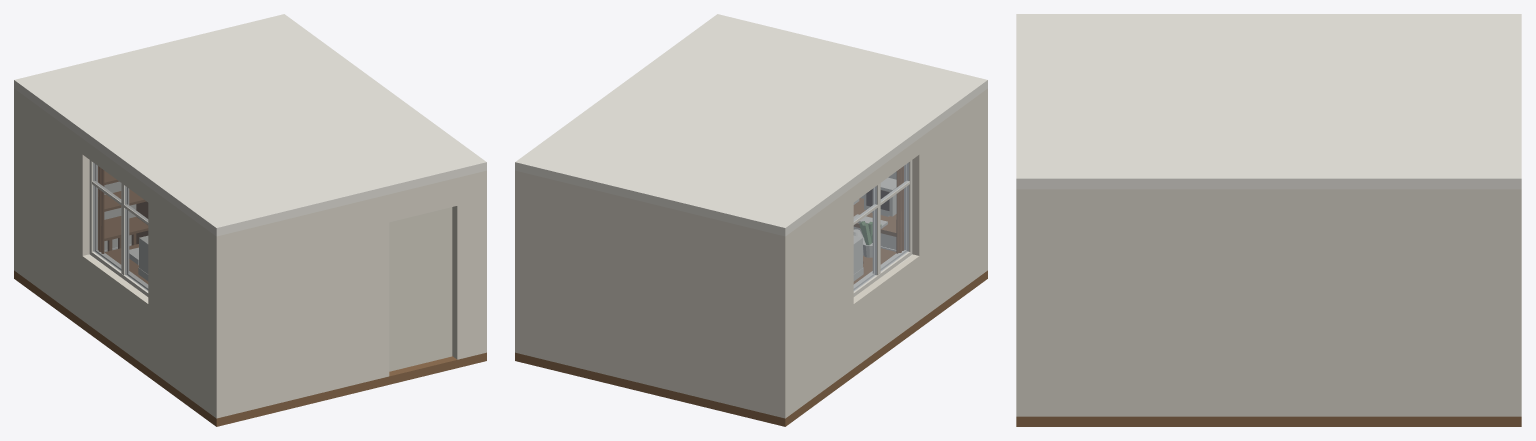
The model's file is room.glb.
3 renders of one model, left to right at view 1: azimuth 30°, elevation 25°; view 2: azimuth 150°, elevation 25°; view 3: azimuth 270°, elevation 25°, orthographic. The views are drawn at different scales.
Parts seen in each view (by area): view 1: Ceiling, WallFront_0, WallLeft_3, WallLeft_0, DoorLeaf, WallFront_2, WallLeft_1, Floor, Glass1, WallBack_0, Glass0, WallFront_1 (+5 smaller); view 2: Ceiling, WallBack_0, WallLeft_0, WallLeft_3, WallLeft_1, Floor, Glass0, Glass1, WallFront_0, WallLeft_2, CurtainNear, FrameFront (+3 smaller); view 3: WallRight_0, Ceiling, Floor, WallBack_0, WallFront_2.
Boxes of the visible parts, x1,y1,x2,y2 form: Ceiling: (14,14,486,236); WallFront_0: (208,194,389,418); WallLeft_3: (22,95,89,320); WallLeft_0: (148,187,207,411); DoorLeaf: (389,207,452,371); WallFront_2: (452,170,486,359); WallLeft_1: (82,254,148,368); Floor: (14,270,486,426); Glass1: (93,162,120,270); WallBack_0: (14,88,136,276); Glass0: (125,186,147,290); WallFront_1: (389,178,457,222); Ceiling: (515,14,987,236); WallBack_0: (515,170,793,418); WallLeft_0: (912,95,979,320); WallLeft_3: (794,187,853,411); WallLeft_1: (853,254,919,368); Floor: (515,270,987,426); Glass0: (881,162,908,270); Glass1: (854,186,876,290); WallFront_0: (853,88,987,276); WallLeft_2: (853,139,919,202); CurtainNear: (896,166,903,253); FrameFront: (907,160,912,255); WallRight_0: (1037,189,1500,416); Ceiling: (1016,14,1521,189); Floor: (1016,416,1521,426); WallBack_0: (1500,189,1521,416); WallFront_2: (1016,189,1037,416).
Size of the model in its own units: 4.04 by 2.84 by 5.24.
